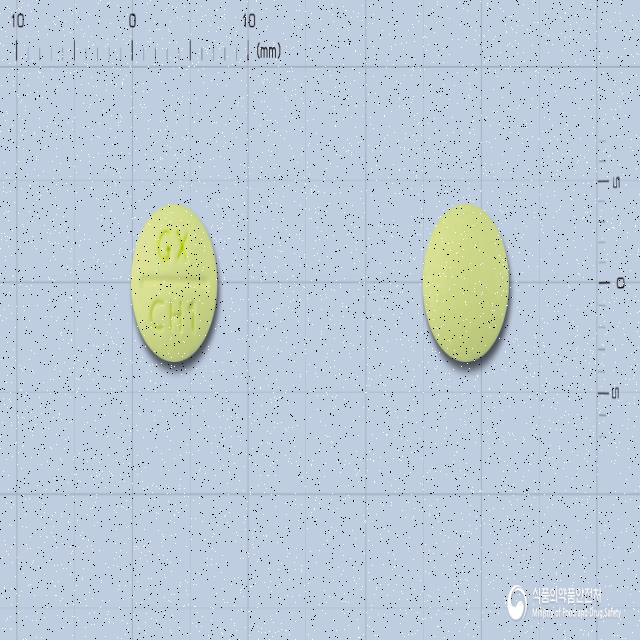Imuran: (130, 202, 219, 362)
